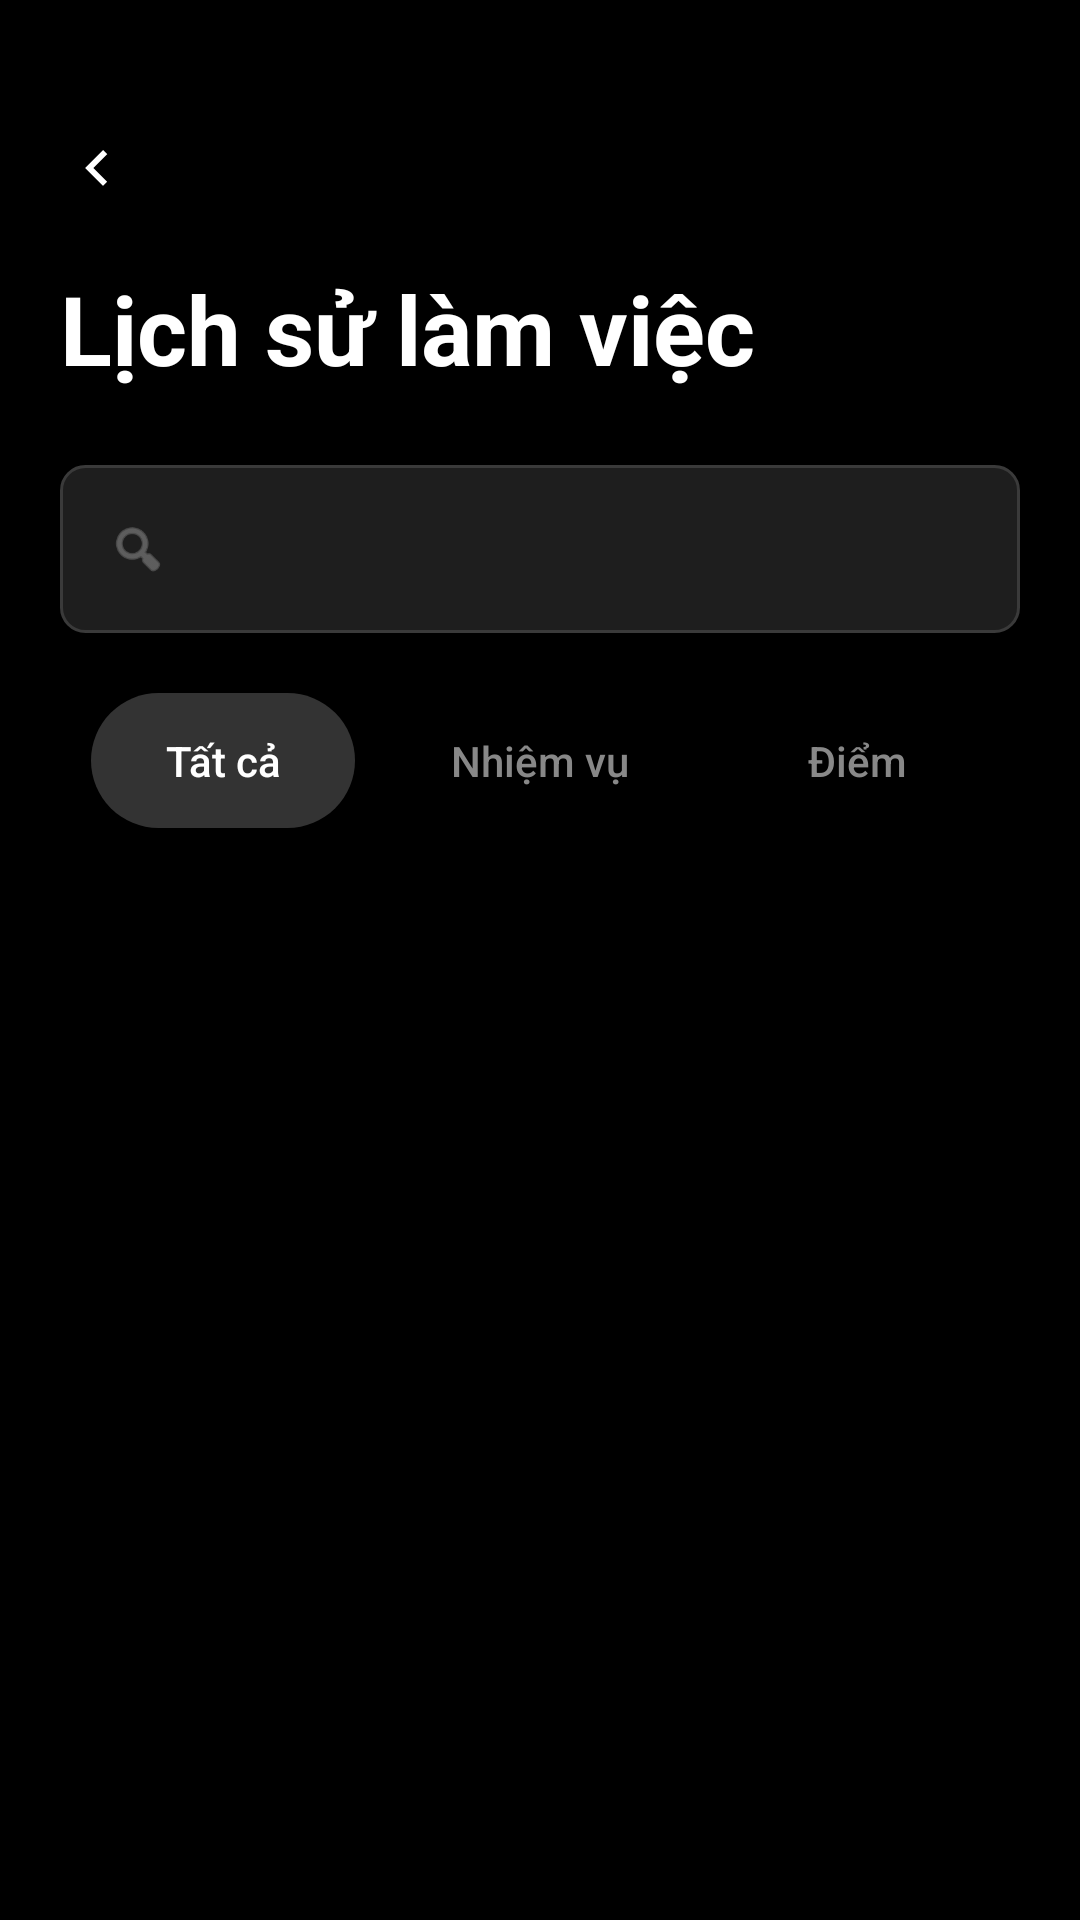

Icons on this 1080w x 1920h Android screen, each with the point to tap as [x,y]:
Back: [96,168]
search: [138,549]
